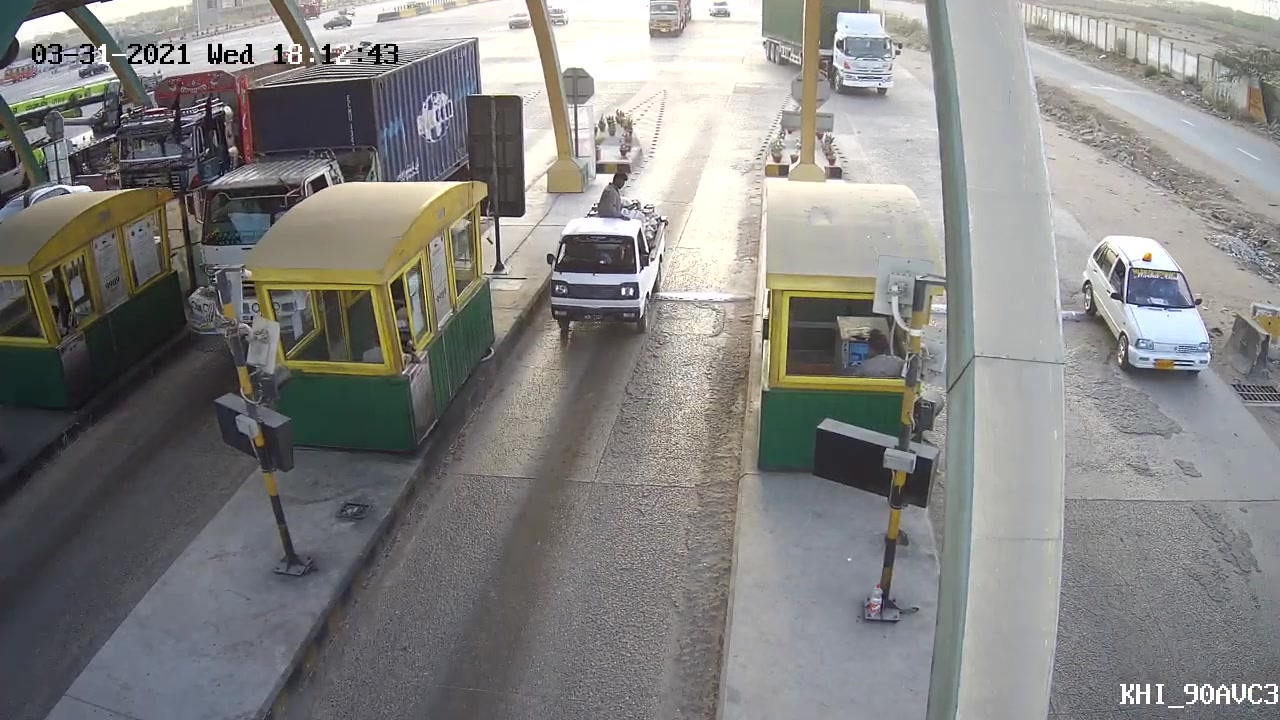F2: (536, 221, 676, 348)
